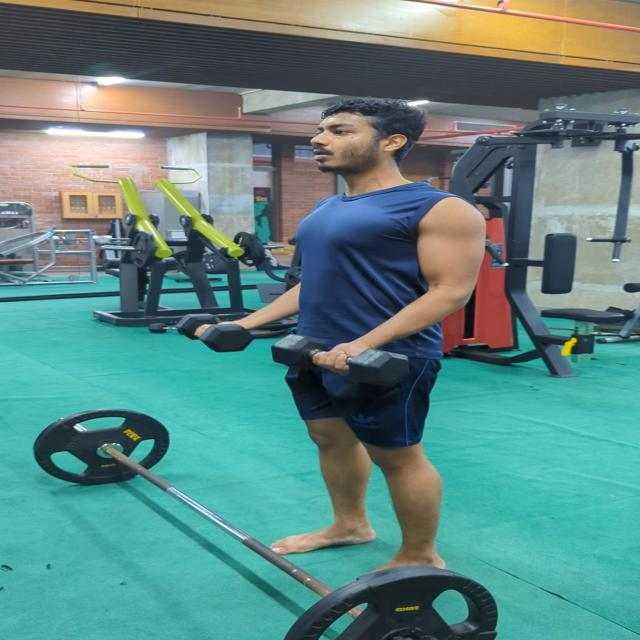Normal_DumbbellBicepCurls: (185, 95, 488, 599)
